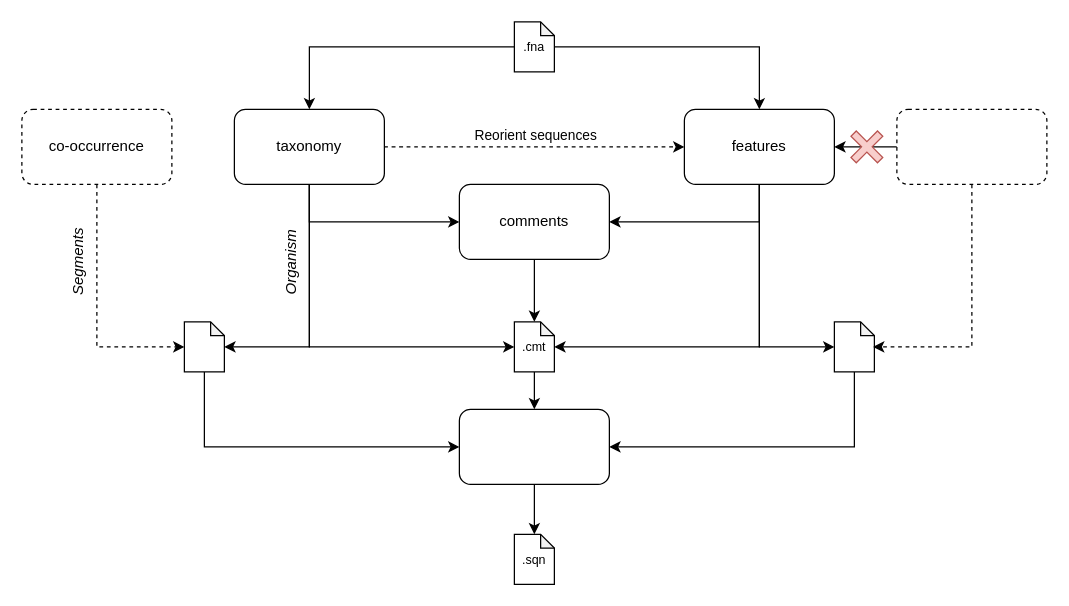
Some shapes in this 1069 by 606 pixel diagram are drawn without their labels. Each missing label, with the centre of its shape:
".src" goes at pixel 203 346.
".tbl" goes at pixel 853 346.
"gbk2tbl" goes at pixel 971 146.
"table2asn" goes at pixel 533 446.
